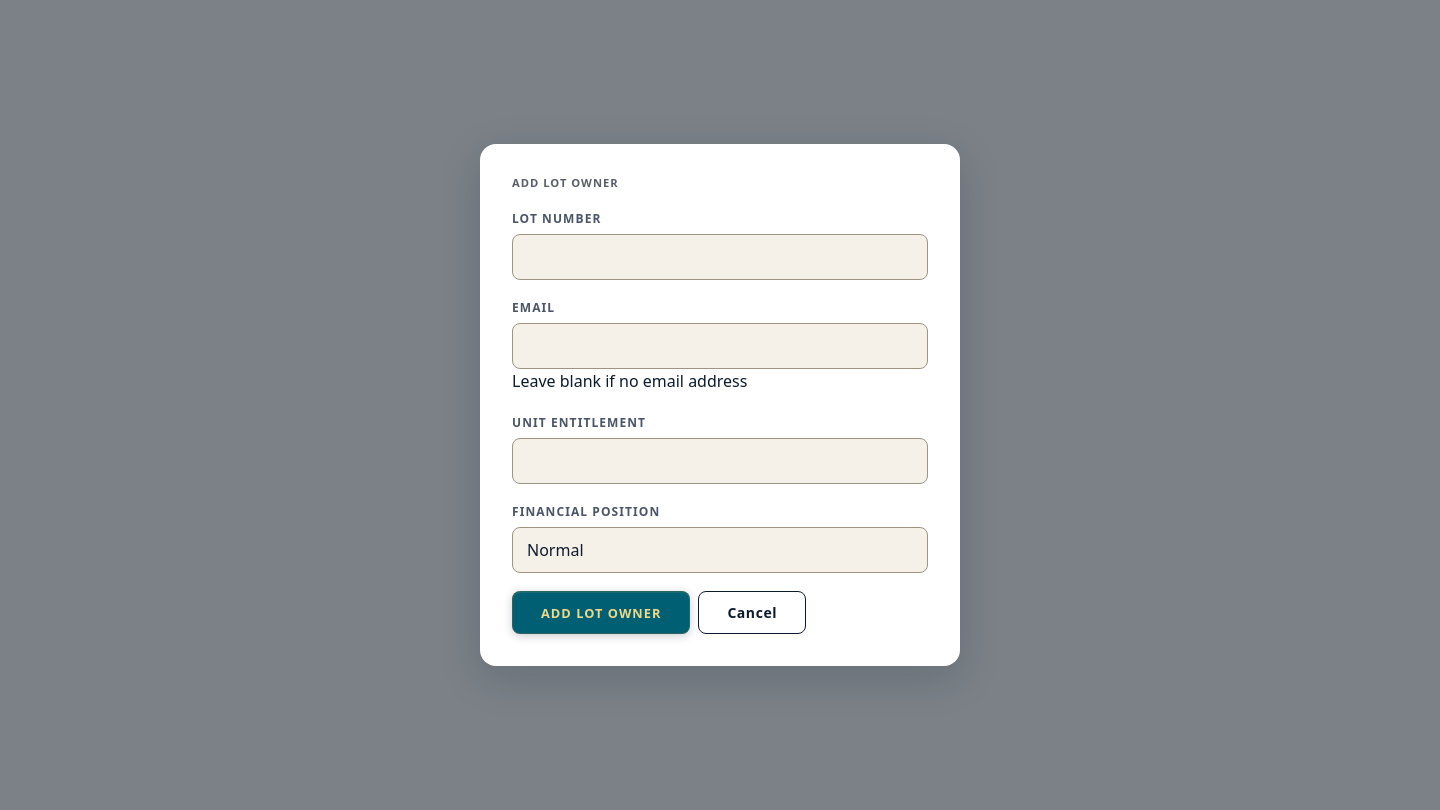
Scenario: LotOwnerForm - Add mode › shows validation error when lot number is empty
Type "email@example.com" into the field labelled "Email" at (720, 346), box left=512, top=323, right=928, bottom=369
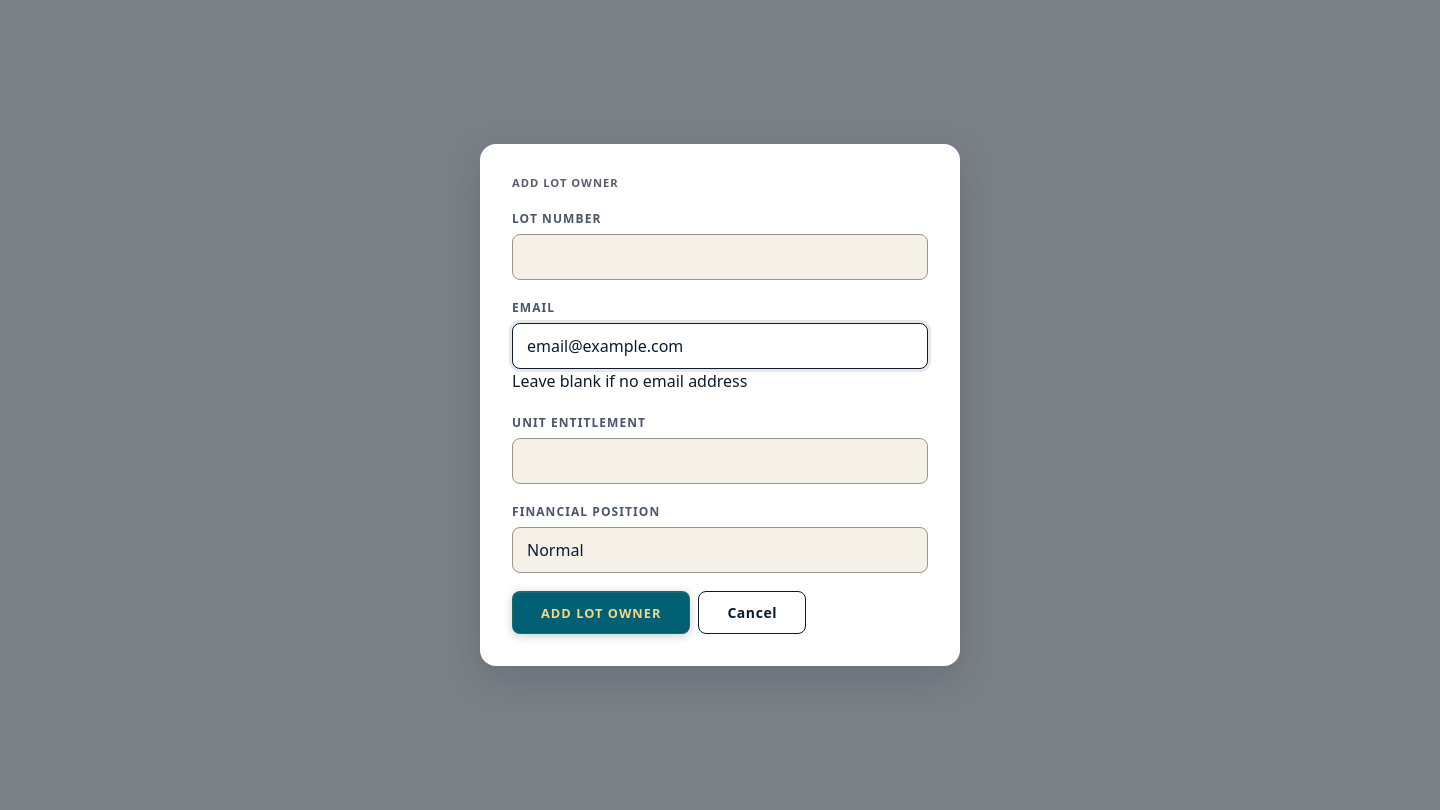
Type "100" into the number field labelled "Unit Entitlement" at (720, 461), box left=512, top=438, right=928, bottom=484
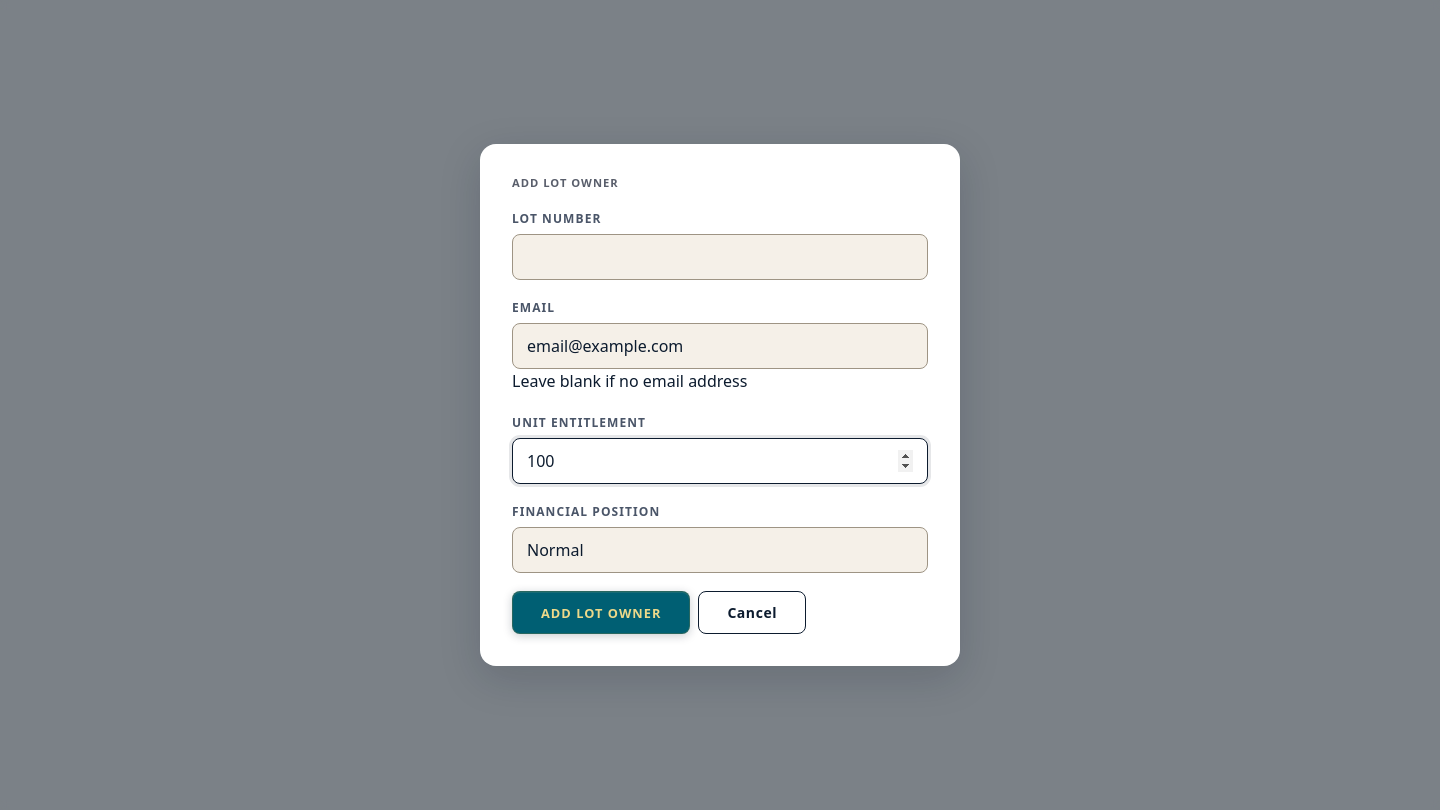
Click the button "Add Lot Owner" at (601, 613), box left=512, top=591, right=690, bottom=634
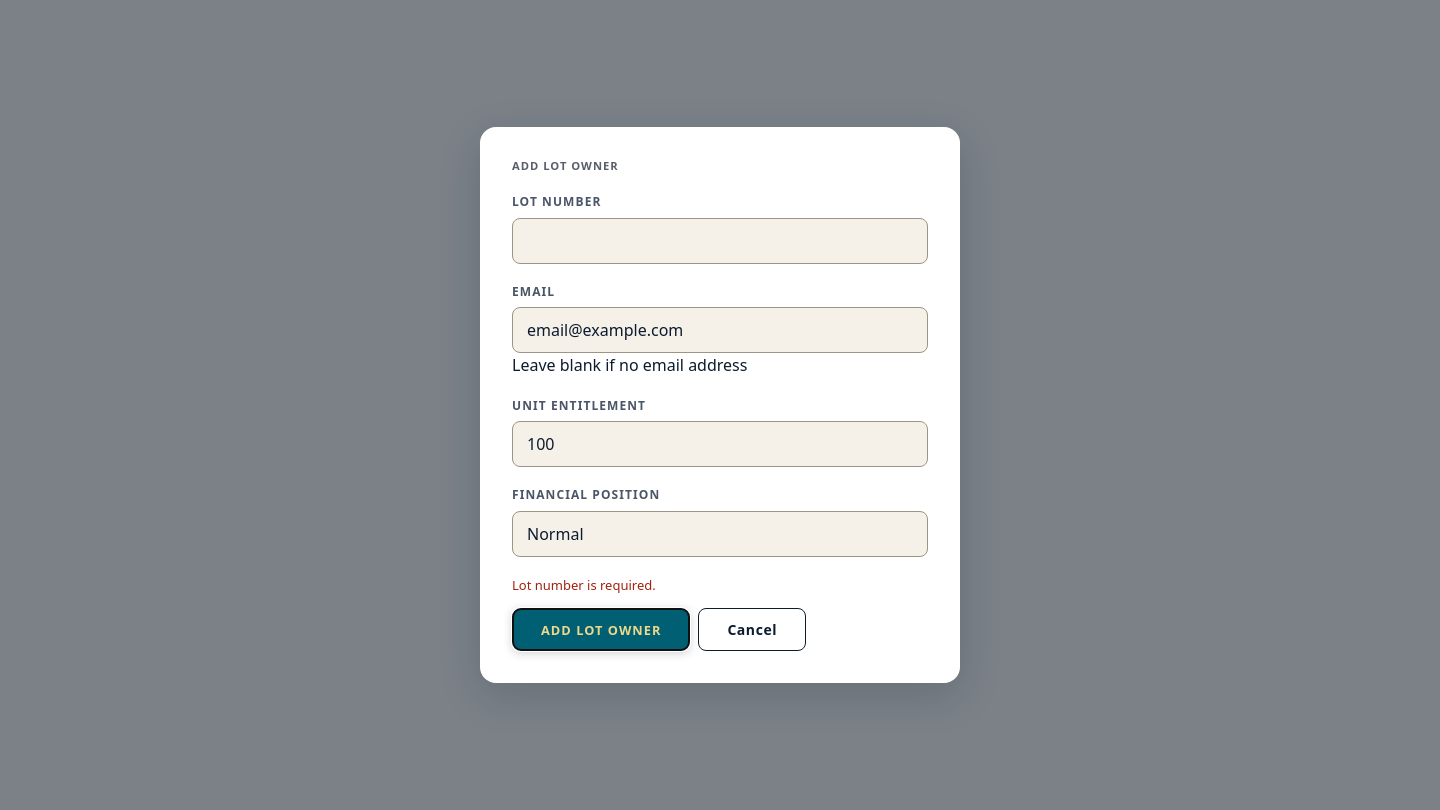
Expected: the text "Lot number is required." is shown, left=512, top=576, right=656, bottom=594
